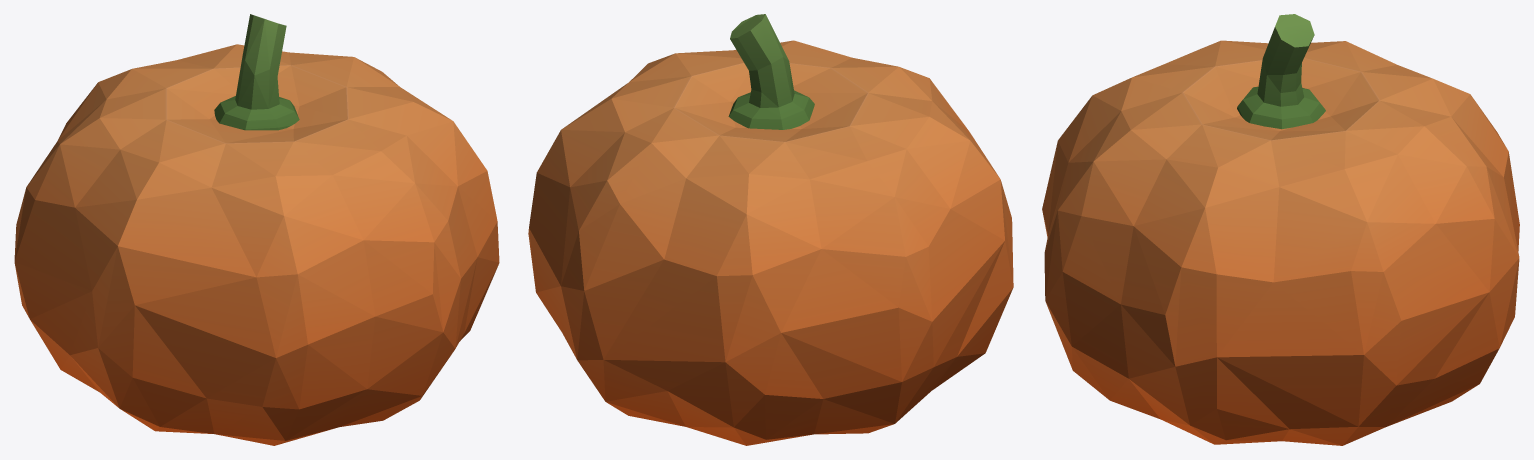
The model's file is SM_Food_Pumpkin.fbx.
3 views of the same model, side by side, from view 1: azimuth 30°, elevation 25°; view 2: azimuth 150°, elevation 25°; view 3: azimuth 270°, elevation 25° (orthographic). The views are drawn at different scales.
Visible parts, largest first — view 1: SM_Food_Pumpkin; view 2: SM_Food_Pumpkin; view 3: SM_Food_Pumpkin.
Part boxes in pixels (x1,y1,x2,y2): SM_Food_Pumpkin: [14, 14, 499, 445]; SM_Food_Pumpkin: [528, 14, 1013, 445]; SM_Food_Pumpkin: [1042, 14, 1519, 445].
Size of the model in its own units: 51.58 by 45.07 by 51.59.
